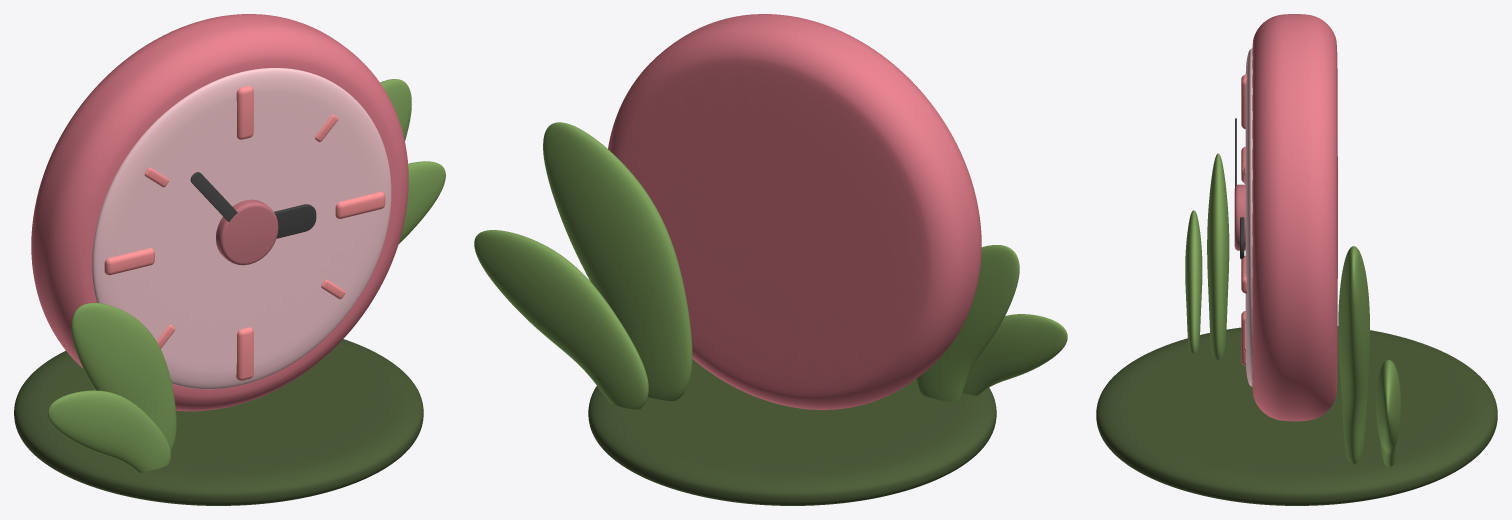
The model's file is clock-fun-loading-animated-3d-icon-966193995963.glb.
3 views of the same model, side by side, from view 1: azimuth 30°, elevation 25°; view 2: azimuth 150°, elevation 25°; view 3: azimuth 270°, elevation 25° (orthographic). The views are drawn at different scales.
Parts seen in each view (by area): view 1: Clock Base 2, Clock Base 1, Base, Plant.001, Plant, Hours, Core, Plant.002, Hours Pin, Plant.003, Minutes Pin; view 2: Clock Base 1, Base, Plant.003, Plant.002, Plant.001, Plant; view 3: Base, Clock Base 1, Plant.003, Plant.001, Clock Base 2, Plant.002, Plant, Hours, Core.
Boxes of the visible parts, x1,y1,x2,y2 form: Clock Base 2: (92,68,391,389); Clock Base 1: (31,14,408,411); Base: (14,339,423,505); Plant.001: (71,303,176,451); Plant: (48,390,170,472); Hours: (104,86,385,380); Core: (216,199,278,265); Plant.002: (399,161,445,243); Hours Pin: (274,204,316,238); Plant.003: (380,79,411,140); Minutes Pin: (190,172,237,222); Clock Base 1: (608,14,981,409); Base: (588,359,996,505); Plant.003: (543,122,692,401); Plant.002: (474,230,648,409); Plant.001: (915,245,1019,402); Plant: (962,314,1067,395); Base: (1096,326,1497,505); Clock Base 1: (1252,14,1337,421); Plant.003: (1338,246,1369,463); Plant.001: (1207,153,1229,359); Clock Base 2: (1245,48,1252,386); Plant.002: (1376,360,1400,466); Plant: (1185,210,1202,352); Hours: (1241,74,1246,365); Core: (1234,184,1245,250).
Size of the model in its own units: 2.74 by 2.13 by 1.96.
